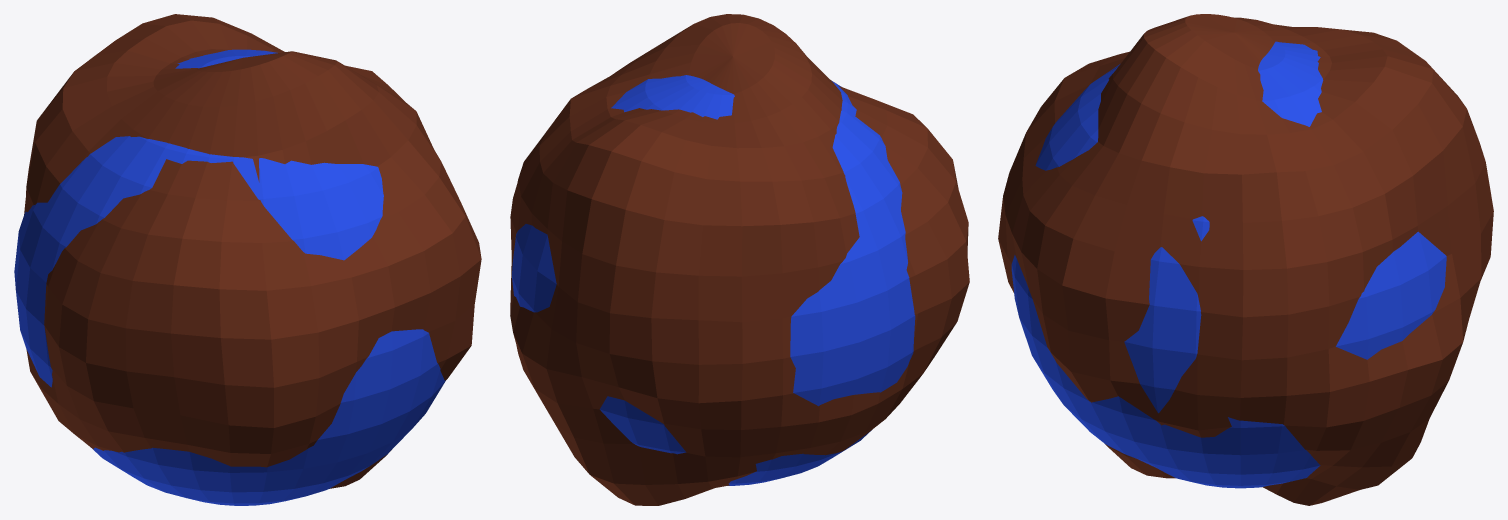
The model's file is planet.glb.
3 renders of one model, left to right at view 1: azimuth 30°, elevation 25°; view 2: azimuth 150°, elevation 25°; view 3: azimuth 270°, elevation 25°, orthographic. The views are drawn at different scales.
Parts seen in each view (by area): view 1: Sphere, Sphere.001; view 2: Sphere, Sphere.001; view 3: Sphere, Sphere.001.
Boxes of the visible parts, x1,y1,x2,y2 form: Sphere: (24,14,481,488); Sphere.001: (14,49,445,505); Sphere: (510,14,969,505); Sphere.001: (511,75,915,485); Sphere: (998,14,1493,505); Sphere.001: (1011,41,1446,488).
Size of the model in its own units: 17.88 by 18.73 by 18.27.
